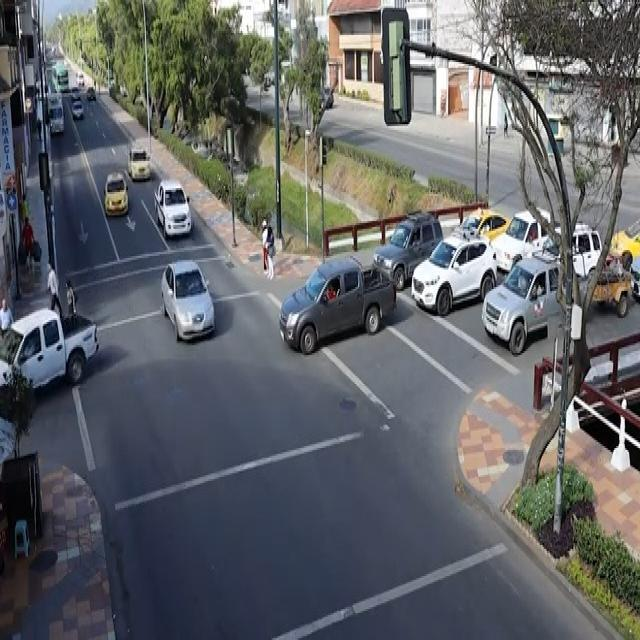CMT: (281, 262, 402, 350), (2, 314, 103, 390)
